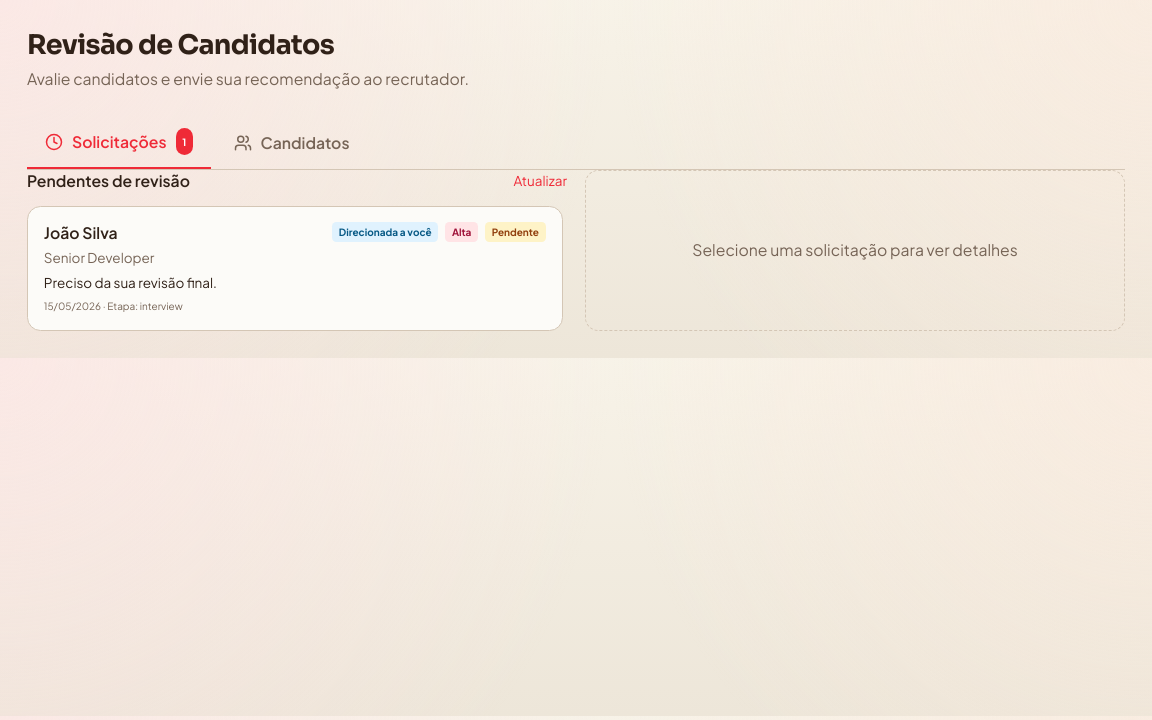
ManagerReviewPage › carrega o resumo seguro ao selecionar uma solicitação
Click the button "João Silva": x=81, y=233 [27,206,562,330]
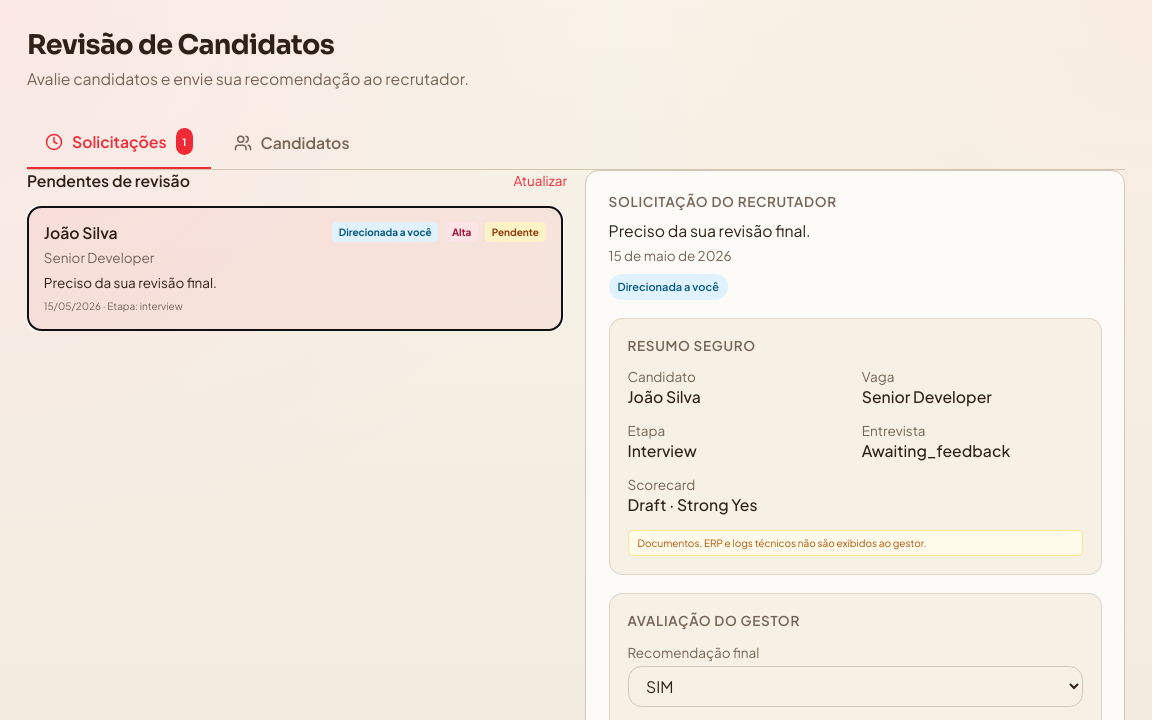
Check: the text "Resumo seguro" is shown, box [628,336,756,354]
